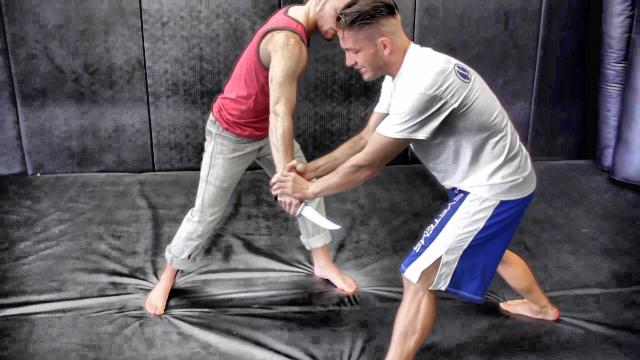knife: (274, 198, 346, 232)
